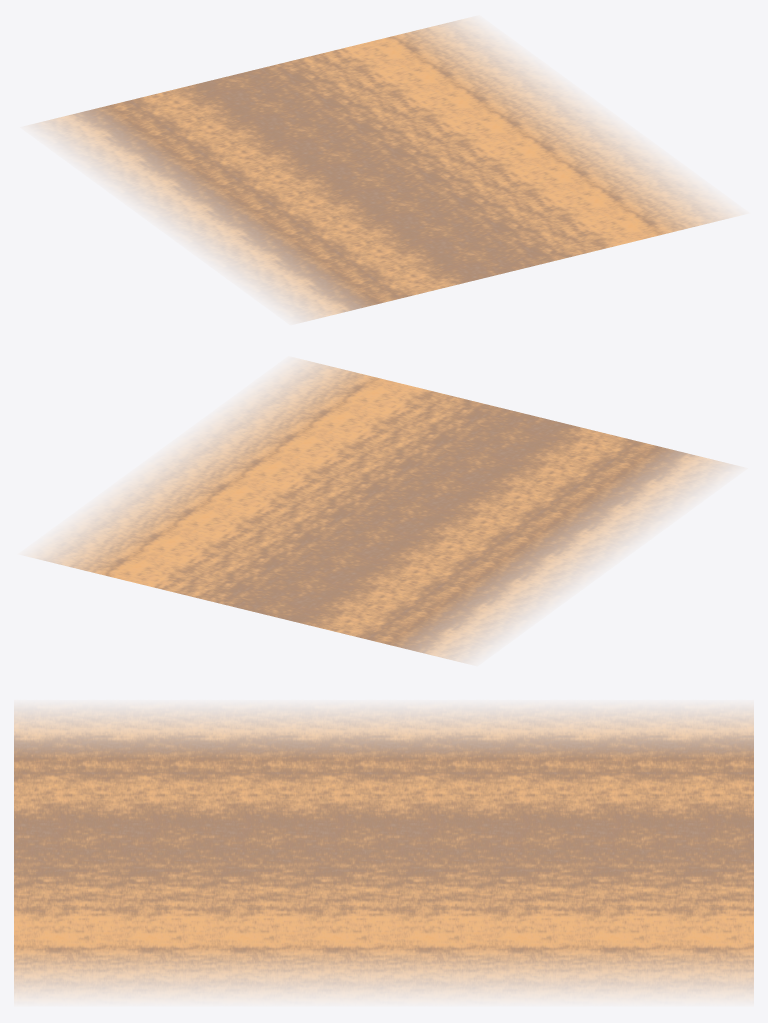
File: mwm_rill_base.glb
3 renders of one model, top to bottom at view 1: azimuth 30°, elevation 25°; view 2: azimuth 150°, elevation 25°; view 3: azimuth 270°, elevation 25°, orthographic. The views are drawn at different scales.
Size of the model in its own units: 1 by 0 by 1.
Materials: 1 (1 with a texture image).
